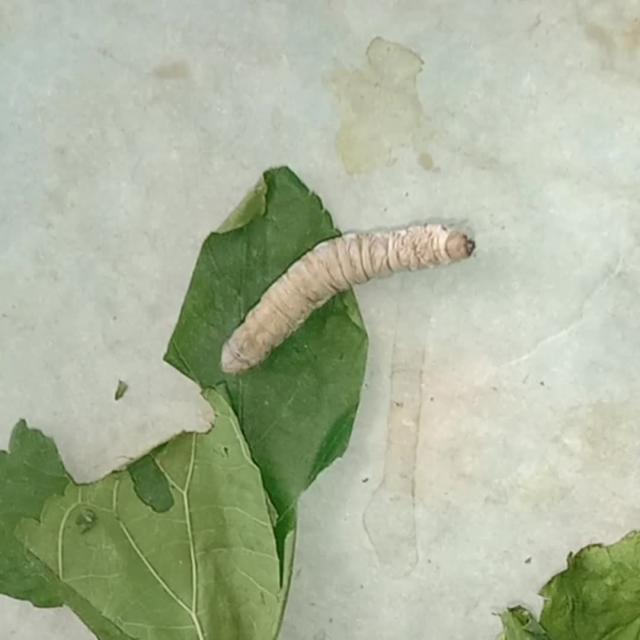Grasserie: (217, 199, 487, 396)
